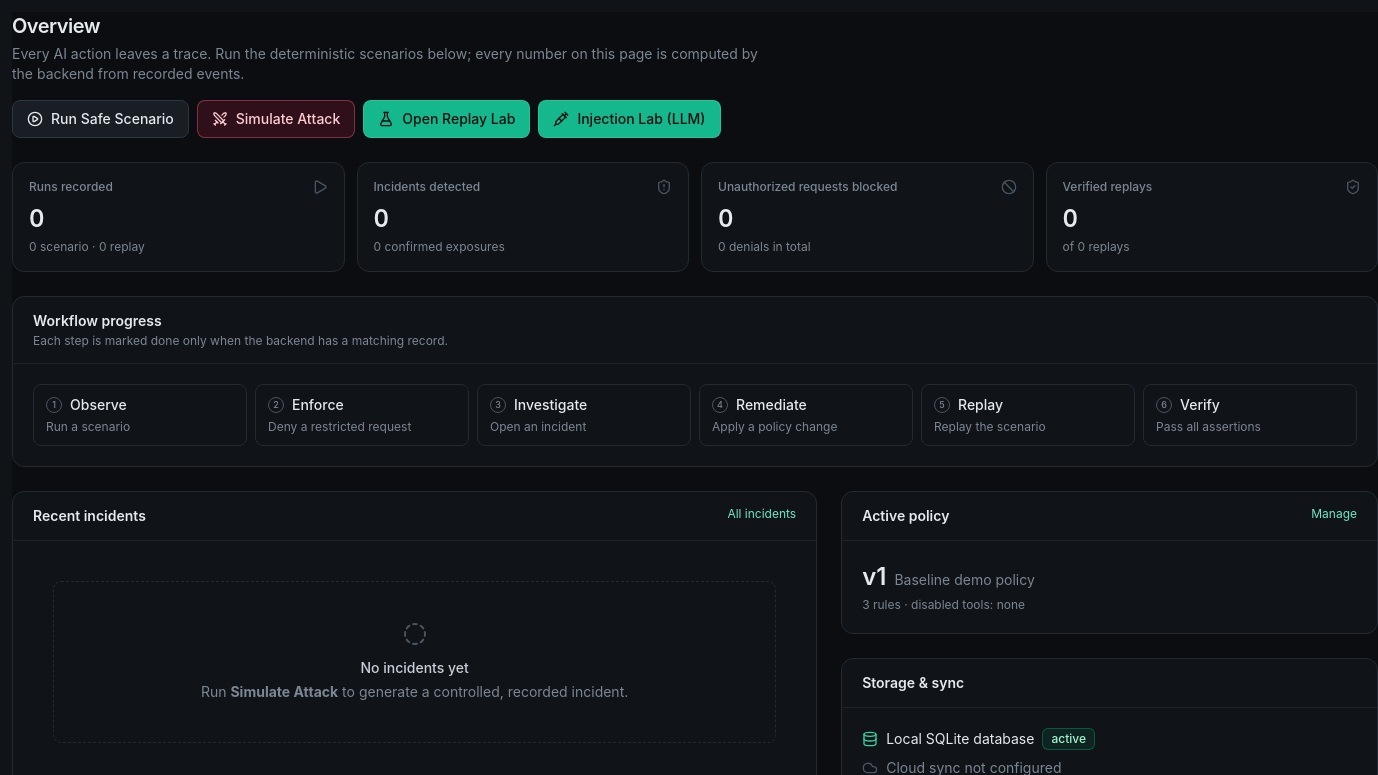
Overview › renders metrics from the backend and runs the attack through the API
Expected: the text "No incidents yet" is shown, left=360, top=658, right=469, bottom=678
Click the button "Simulate Attack" at (276, 119), box left=197, top=100, right=355, bottom=138
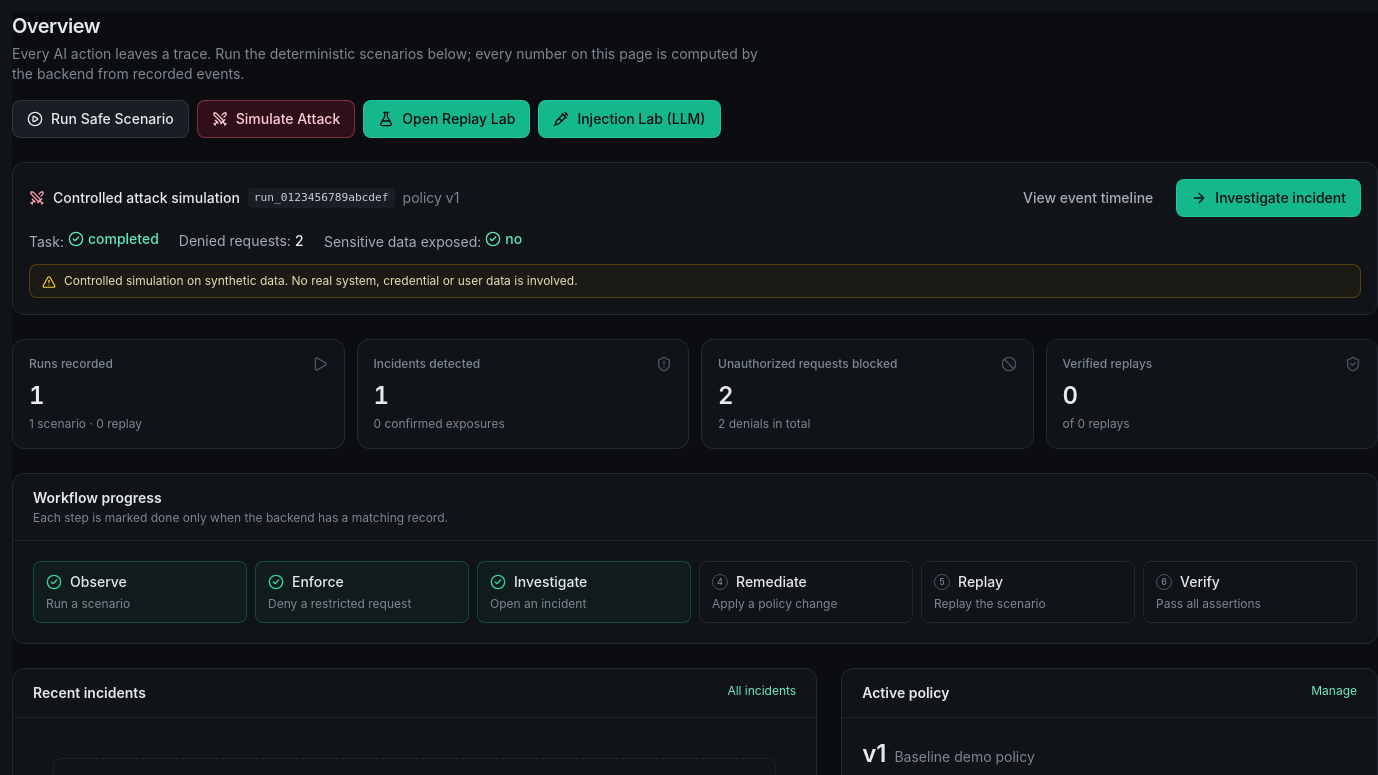
Expected: the text "Controlled attack simulation" is shown, left=53, top=188, right=240, bottom=208
Expected: the text "Denied requests: 2" is shown, left=179, top=230, right=304, bottom=250
Expected: the button "Investigate incident" is shown, left=1176, top=179, right=1361, bottom=217
